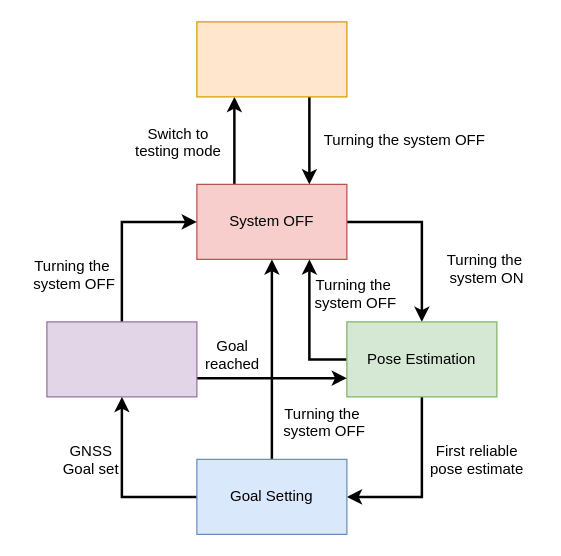
The diagram is 561 pixels wide and 556 high, and some of its shapes have lost their labels. The shapes that lost their labels are listed below. From the top down, each one's centre as x and y in pixels, then its label:
(271,59): Boat Testing
(121,359): Boat Controller
